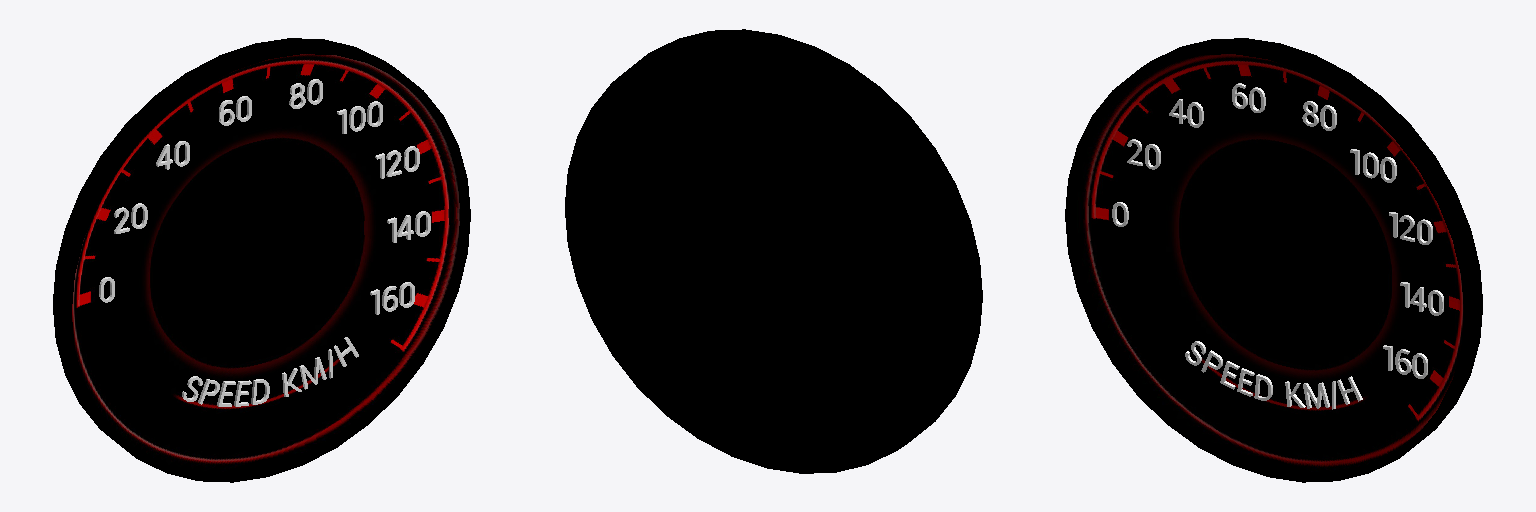
The picture shows the model from 3 angles: view 1: azimuth 30°, elevation 25°; view 2: azimuth 150°, elevation 25°; view 3: azimuth 330°, elevation 25°; orthographic projection.
Visible parts, largest first — view 1: Speedometer; view 2: Speedometer; view 3: Speedometer.
Boxes of the visible parts, box(x1,y1,x2,y2) form: Speedometer: box(53, 38, 470, 482); Speedometer: box(565, 29, 982, 473); Speedometer: box(1065, 38, 1482, 482).
Size of the model in its own units: 125 by 125 by 13.47.
1 materials, 1 textured.